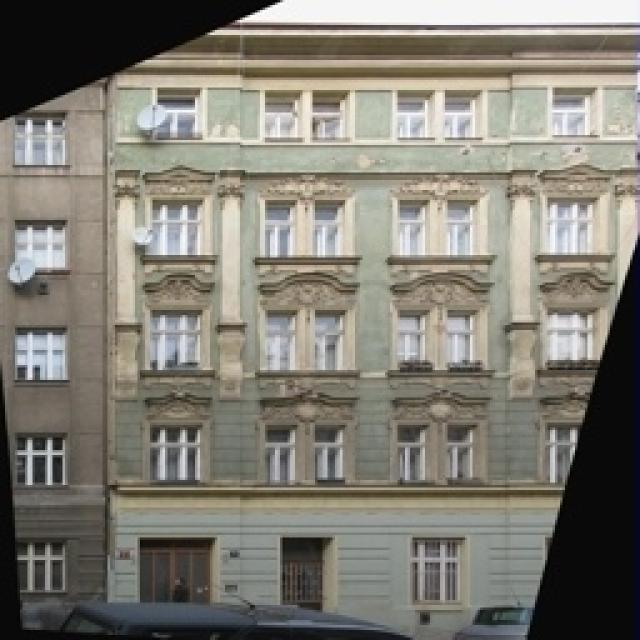building: (115, 5, 640, 627)
